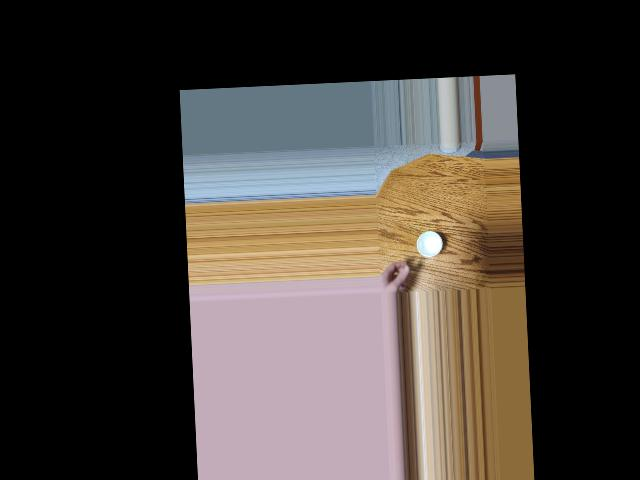cotage: (412, 227, 442, 262)
